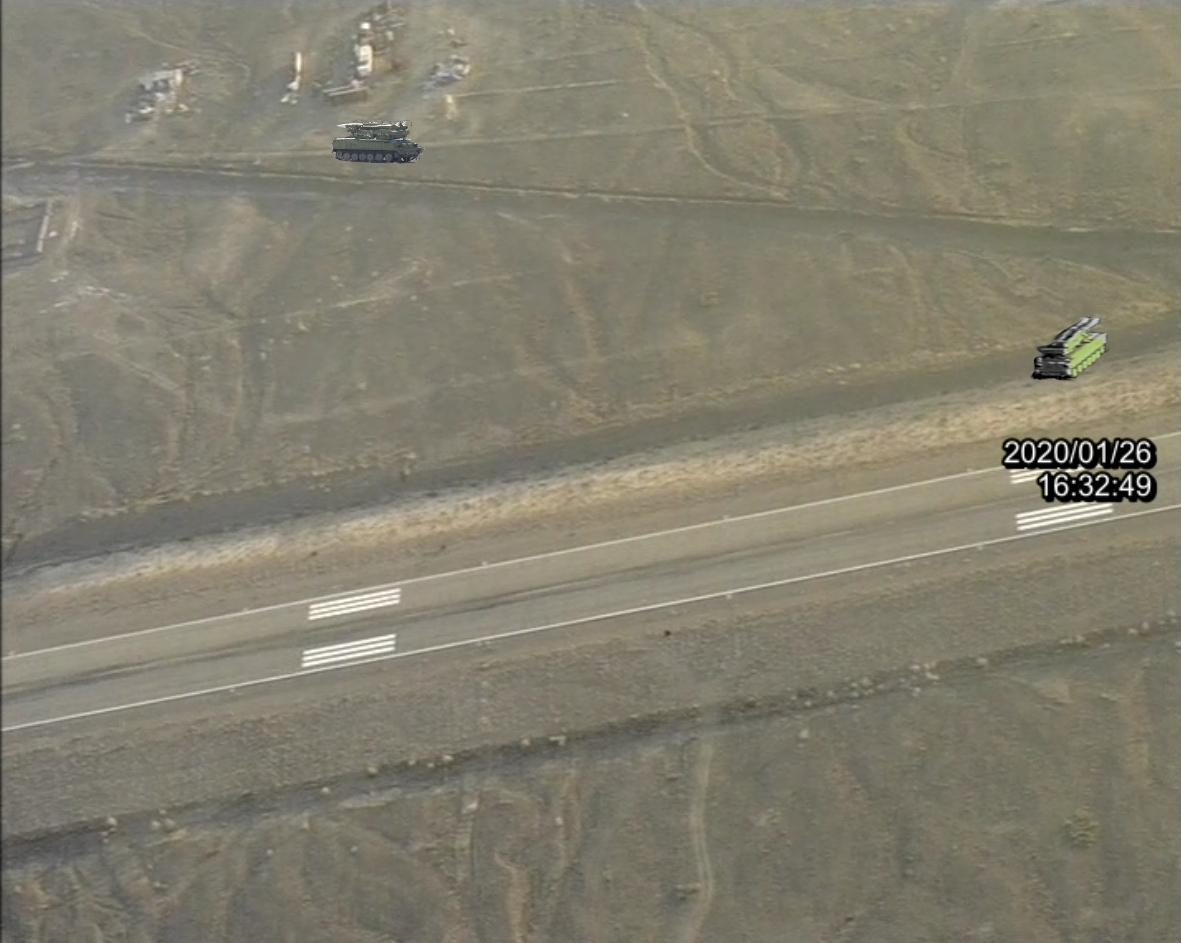armored_car: (1033, 317, 1106, 380), (333, 121, 423, 164)
